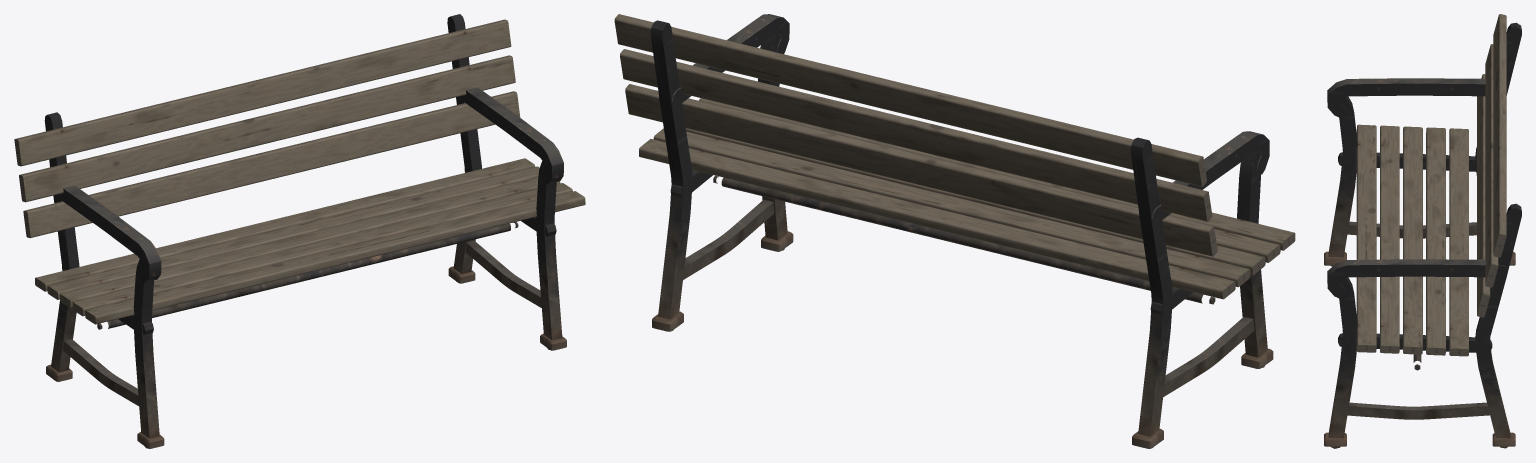
The model's file is park-bench.glb.
3 views of the same model, side by side, from view 1: azimuth 30°, elevation 25°; view 2: azimuth 150°, elevation 25°; view 3: azimuth 270°, elevation 25° (orthographic). The views are drawn at different scales.
Parts seen in each view (by area): view 1: park-bench; view 2: park-bench; view 3: park-bench.
Boxes of the visible parts, box(x1,y1,x2,y2) form: park-bench: box(14, 14, 585, 448); park-bench: box(614, 14, 1295, 448); park-bench: box(1324, 14, 1521, 448).
Size of the model in its own units: 1.8 by 0.9182 by 0.6843.
Materials: 1 (1 with a texture image).
